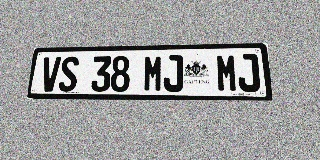3: (91, 56, 112, 92)
8: (110, 56, 131, 92)
J: (237, 54, 260, 92), (163, 55, 183, 92)
M: (216, 54, 238, 92), (143, 55, 163, 92)
S: (58, 56, 79, 92)
V: (40, 57, 61, 92)
